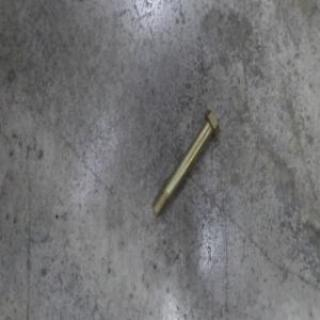Bolttrack_idkeyframe: (150, 105, 219, 218)
